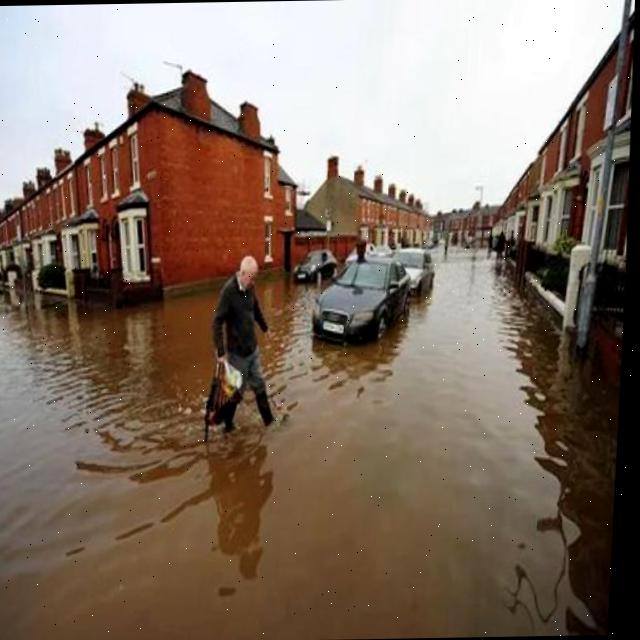civilian: (196, 244, 285, 436)
